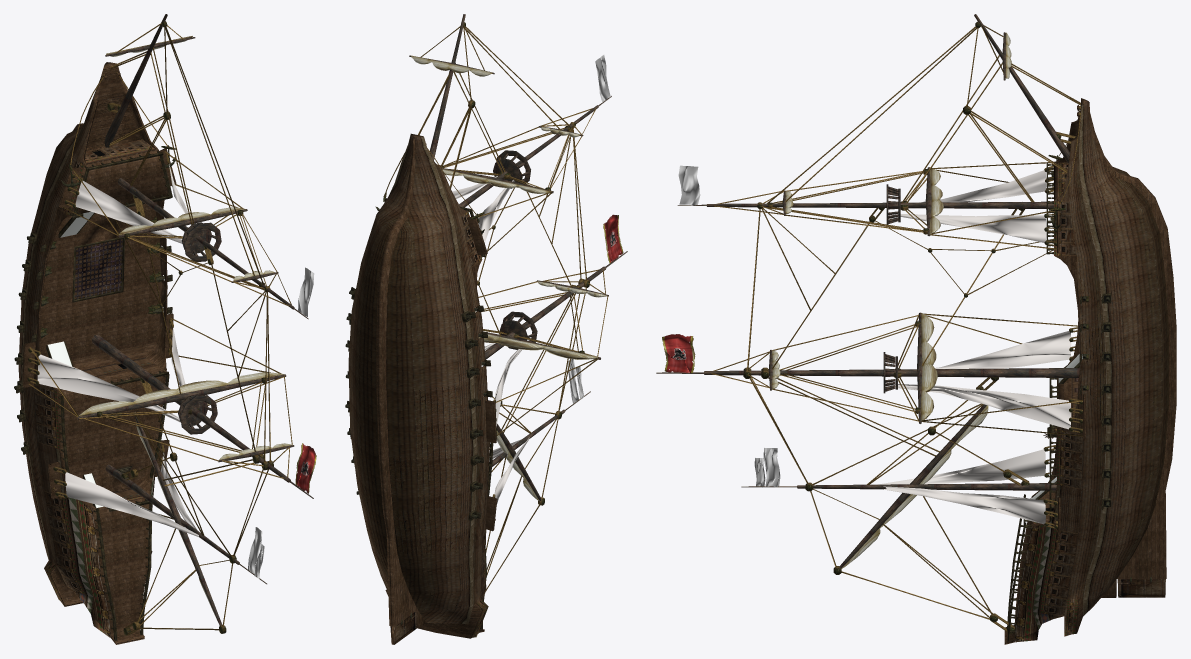
3 views of the same model, side by side, from view 1: azimuth 30°, elevation 25°; view 2: azimuth 150°, elevation 25°; view 3: azimuth 270°, elevation 25° (orthographic). The views are drawn at different scales.
Parts seen in each view (by area): view 1: 3DSMesh_4, 3DSMesh_21, 3DSMesh_20, 3DSMesh_3, 3DSMesh_27, 3DSMesh_1, 3DSMesh_11, 3DSMesh_22, 3DSMesh_9, 3DSMesh_23, 3DSMesh_2, 3DSMesh_24 (+4 smaller); view 2: 3DSMesh_3, 3DSMesh_4, 3DSMesh_21, 3DSMesh_20, 3DSMesh_22, 3DSMesh_27, 3DSMesh_1, 3DSMesh_11, 3DSMesh_26, 3DSMesh_25; view 3: 3DSMesh_3, 3DSMesh_21, 3DSMesh_27, 3DSMesh_20, 3DSMesh_4, 3DSMesh_1, 3DSMesh_22, 3DSMesh_11, 3DSMesh_26, 3DSMesh_23, 3DSMesh_24, 3DSMesh_2 (+1 smaller).
Boxes of the visible parts, x1,y1,x2,y2 form: 3DSMesh_4: (23, 62, 176, 644); 3DSMesh_21: (28, 23, 292, 630); 3DSMesh_20: (77, 14, 313, 625); 3DSMesh_3: (18, 81, 99, 565); 3DSMesh_27: (37, 164, 198, 536); 3DSMesh_1: (34, 140, 155, 638); 3DSMesh_11: (16, 151, 172, 640); 3DSMesh_22: (78, 36, 292, 620); 3DSMesh_9: (74, 239, 122, 299); 3DSMesh_23: (27, 21, 273, 635); 3DSMesh_2: (44, 451, 156, 613); 3DSMesh_24: (28, 26, 272, 635); 3DSMesh_3: (348, 134, 488, 623); 3DSMesh_4: (376, 133, 497, 644); 3DSMesh_21: (384, 25, 608, 590); 3DSMesh_20: (409, 14, 627, 500); 3DSMesh_22: (410, 55, 606, 500); 3DSMesh_27: (452, 176, 529, 504); 3DSMesh_1: (394, 211, 489, 644); 3DSMesh_11: (347, 206, 493, 629); 3DSMesh_26: (567, 55, 610, 403); 3DSMesh_25: (603, 214, 623, 263); 3DSMesh_3: (1054, 101, 1168, 616); 3DSMesh_21: (711, 25, 1082, 619); 3DSMesh_27: (878, 170, 1071, 524); 3DSMesh_20: (656, 14, 1079, 568); 3DSMesh_4: (1004, 98, 1176, 644); 3DSMesh_1: (1014, 163, 1165, 642); 3DSMesh_22: (771, 32, 1011, 568); 3DSMesh_11: (1007, 162, 1111, 641); 3DSMesh_26: (678, 165, 780, 486); 3DSMesh_23: (743, 21, 1088, 633); 3DSMesh_24: (746, 106, 1082, 631); 3DSMesh_2: (1033, 488, 1079, 634).
Size of the model in its own units: 3706 by 10797 by 8033.
